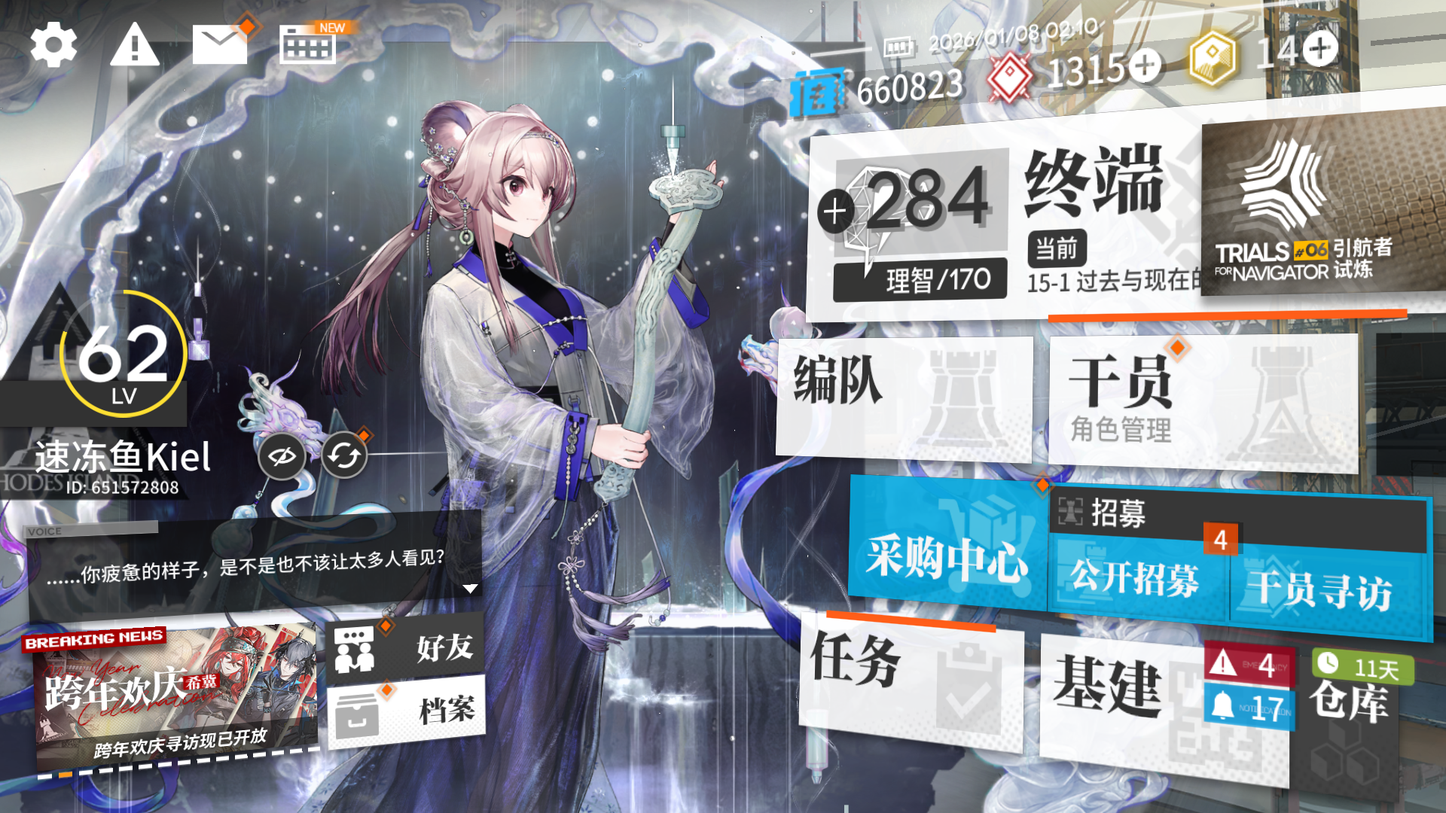home_button: (1011, 129, 1194, 251)
infrastructure_button: (1032, 649, 1290, 776)
